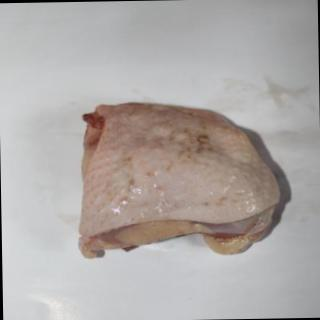Ayam: (81, 100, 282, 259)
